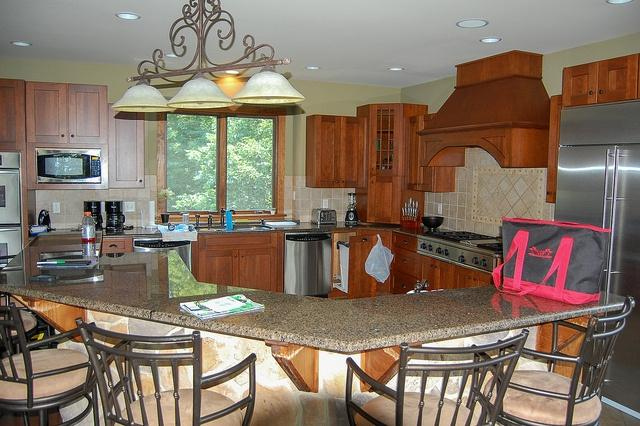Kursi: (74, 317, 256, 425), (344, 329, 527, 425), (497, 295, 630, 425)
Lemari: (26, 79, 146, 190), (305, 113, 367, 188)
